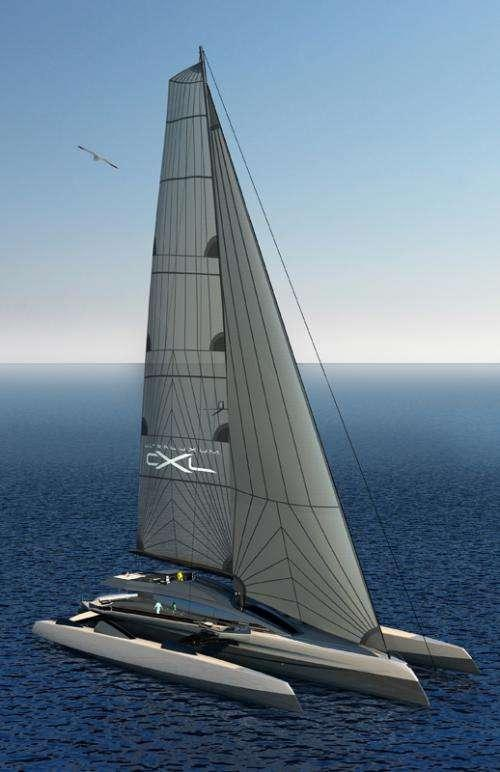bird: (74, 139, 126, 171)
fanchuan: (25, 45, 467, 716)
